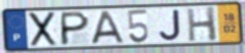5: (126, 8, 150, 44)
A: (91, 10, 126, 46)
H: (185, 6, 219, 43)
J: (158, 9, 183, 42)
P: (59, 10, 92, 47)
X: (28, 10, 58, 48)
